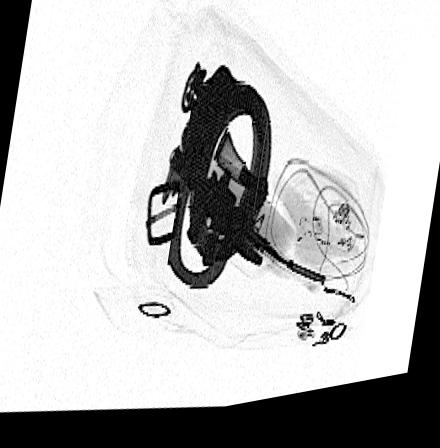Bullet: (213, 137, 267, 203)
Gun: (170, 151, 327, 298)
HandCuffs: (167, 65, 273, 299)
